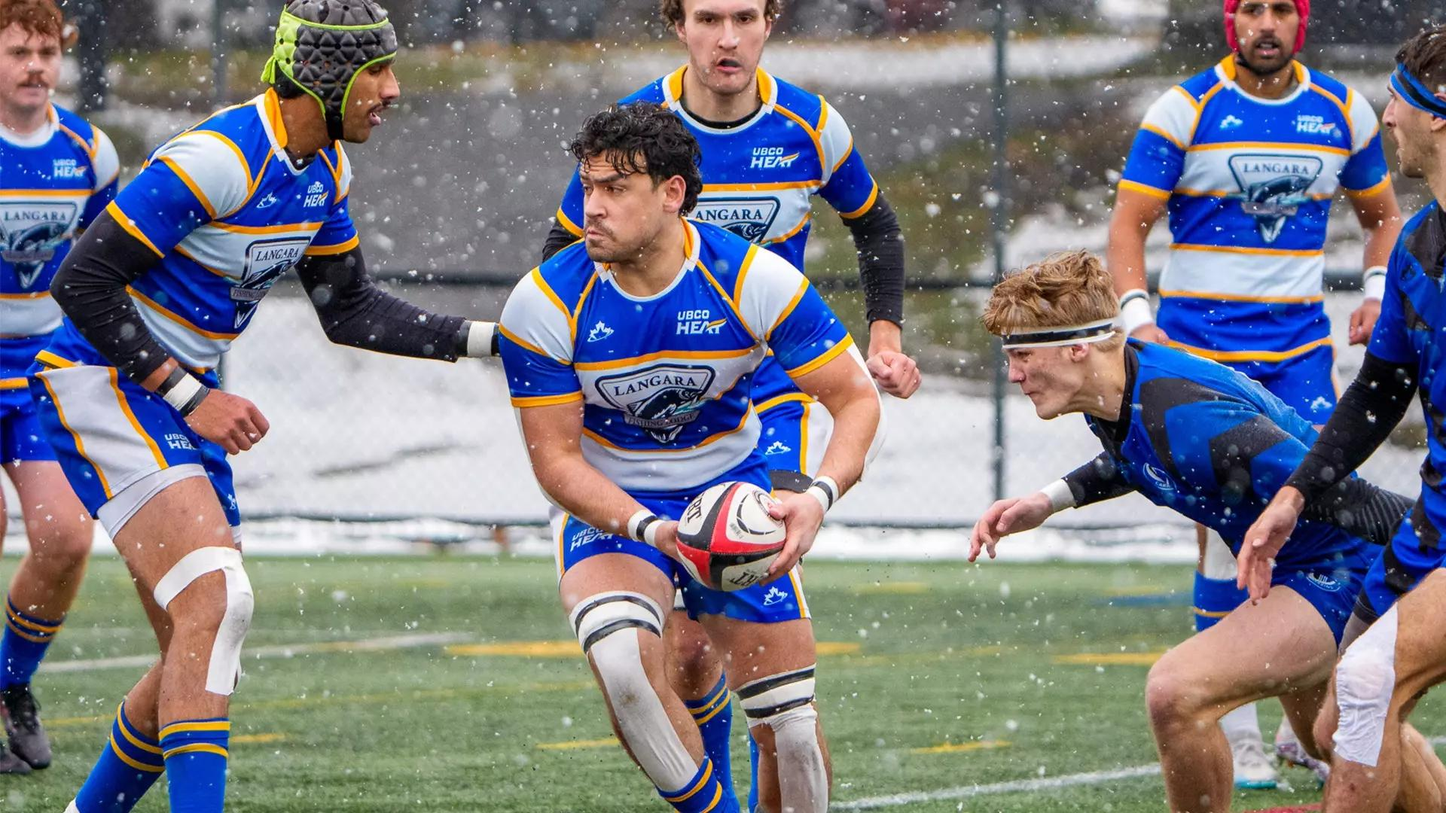ballon_rugby: (663, 475, 798, 596)
